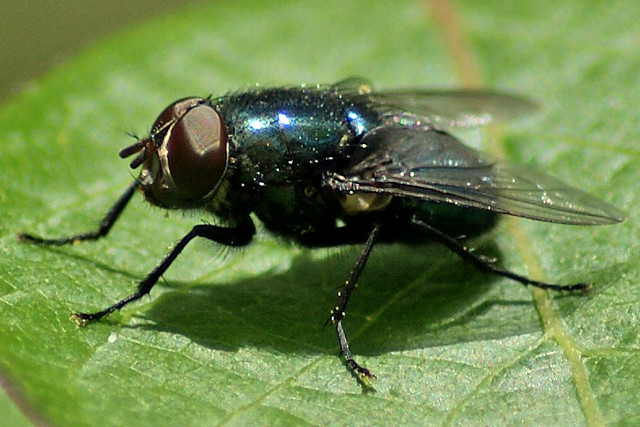green bottles fly: (16, 41, 618, 398)
